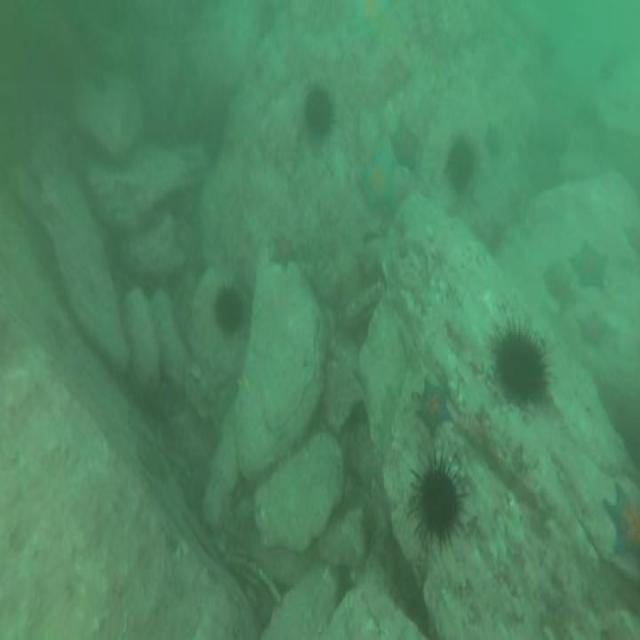echinus: (407, 447, 469, 552), (490, 314, 554, 414), (442, 130, 479, 199), (300, 80, 338, 146), (211, 276, 246, 340)
starfish: (358, 143, 406, 225), (601, 478, 640, 570), (567, 232, 613, 296), (416, 374, 453, 442), (390, 114, 422, 177), (578, 304, 610, 349), (266, 231, 300, 272), (349, 0, 392, 30), (482, 115, 503, 158), (623, 218, 640, 256)
